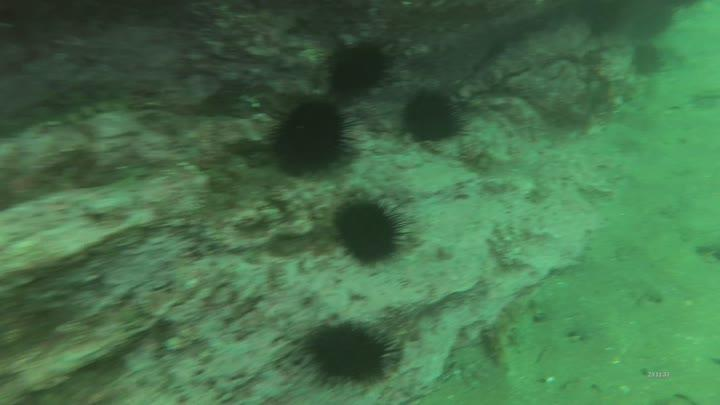urchin: (265, 93, 345, 171), (309, 317, 394, 390), (329, 194, 406, 263), (318, 40, 387, 97), (400, 90, 462, 147)
